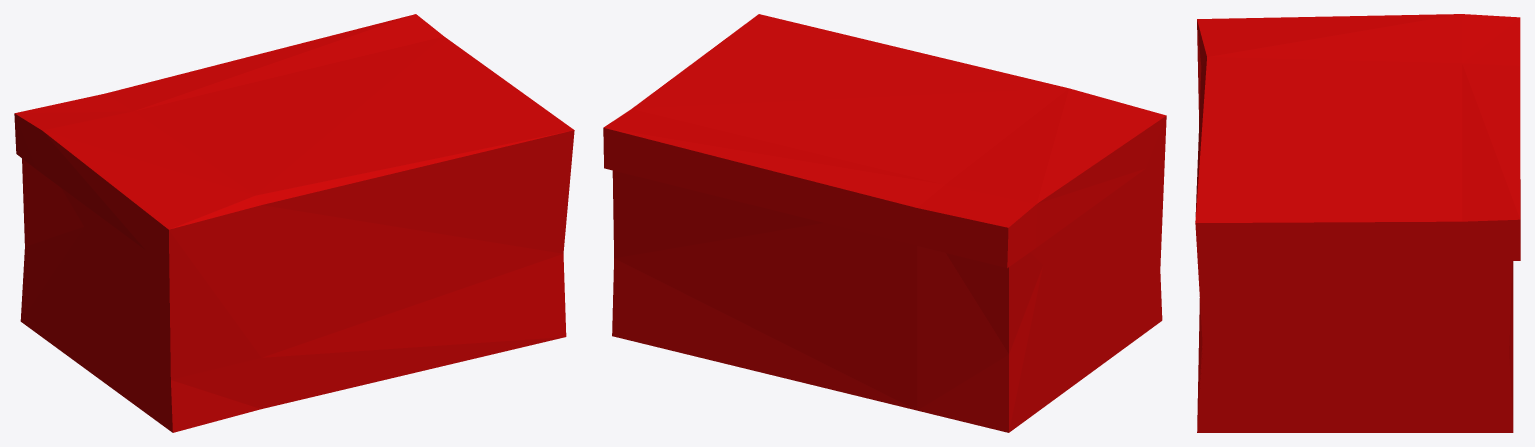
3 renders of one model, left to right at view 1: azimuth 30°, elevation 25°; view 2: azimuth 150°, elevation 25°; view 3: azimuth 270°, elevation 25°, orthographic. The views are drawn at different scales.
Parts seen in each view (by area): view 1: Mesh; view 2: Mesh; view 3: Mesh.
Part boxes in pixels (box(x1,y1,x2,y2)): Mesh: box(14, 14, 574, 432); Mesh: box(603, 14, 1166, 432); Mesh: box(1195, 14, 1520, 432).
Bounding box in the file's own units: 1.21 × 0.6029 × 0.8049.
